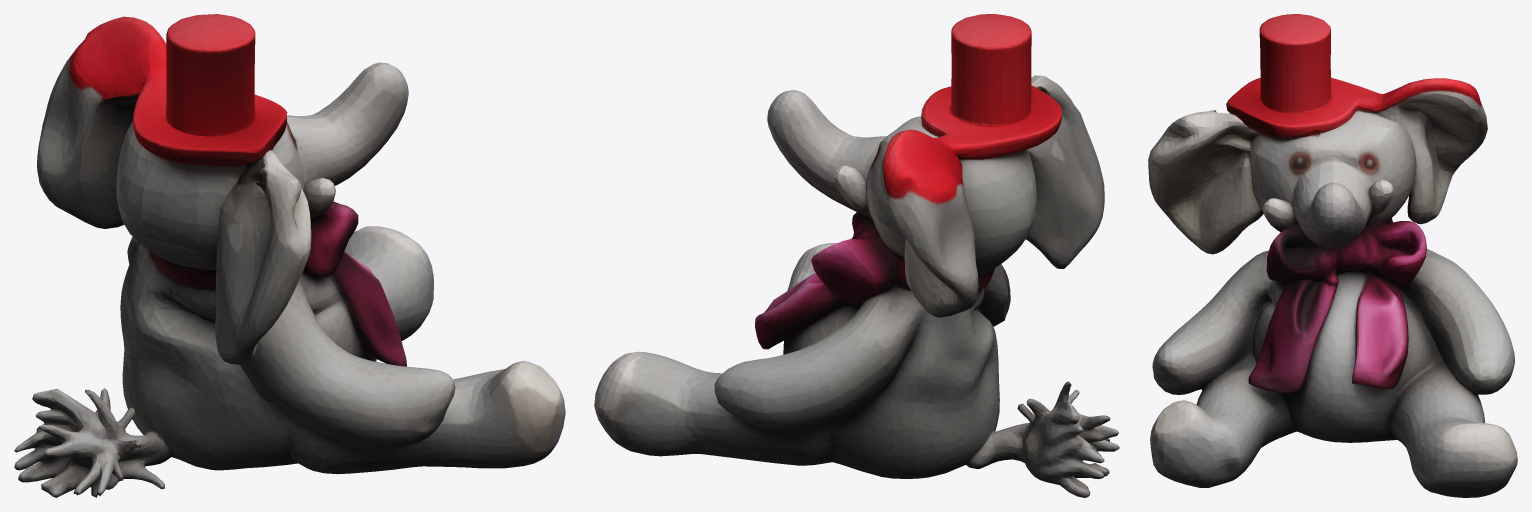
Rendered from appearance_edited_mesh.glb.
The picture shows the model from 3 angles, left to right: view 1: azimuth 30°, elevation 25°; view 2: azimuth 150°, elevation 25°; view 3: azimuth 270°, elevation 25°; orthographic projection. The views are drawn at different scales.
Visible parts, largest first — view 1: world; view 2: world; view 3: world.
Part boxes in pixels (<box>): world: <box>14,14,565,497</box>; world: <box>594,14,1119,497</box>; world: <box>1148,14,1517,497</box>.
Size of the model in its own units: 0.7498 by 0.6773 by 0.6196.
1 material, 1 textured.
